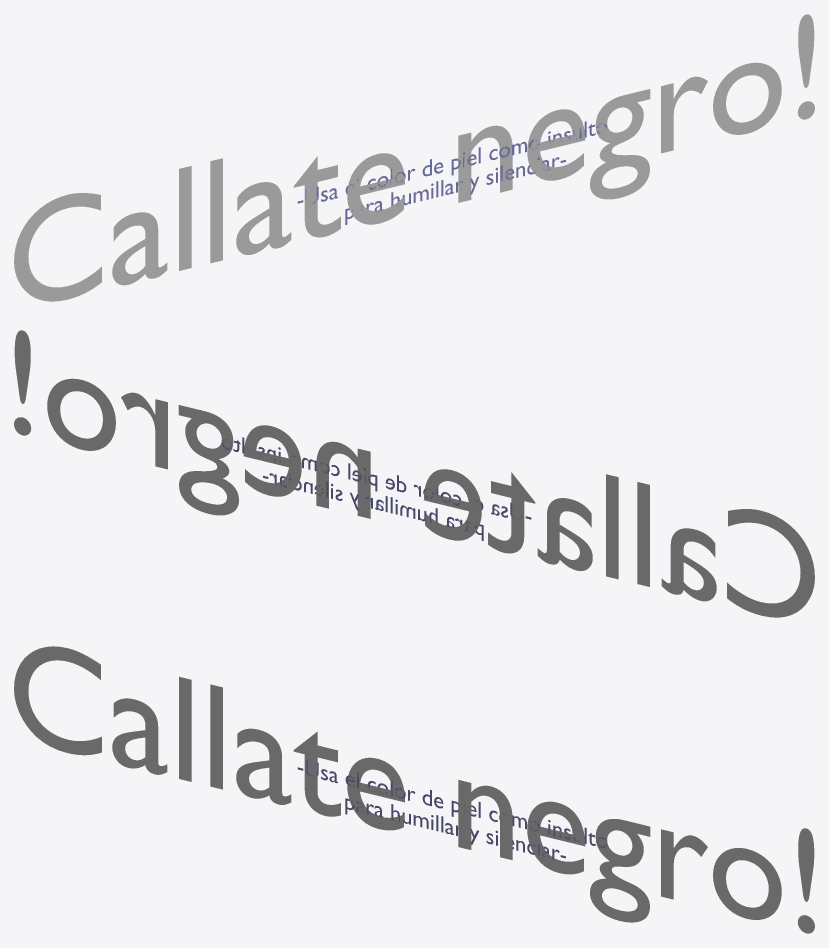
Rendered from palabras3.glb.
The picture shows the model from 3 angles, top to bottom: view 1: azimuth 30°, elevation 25°; view 2: azimuth 150°, elevation 25°; view 3: azimuth 330°, elevation 25°; orthographic projection.
Parts seen in each view (by area): view 1: INDIO, INDIO.001; view 2: INDIO, INDIO.001; view 3: INDIO, INDIO.001.
Boxes of the visible parts, <box> form: INDIO: <box>14,14,814,301</box>; INDIO.001: <box>297,121,606,224</box>; INDIO: <box>14,330,814,617</box>; INDIO.001: <box>222,437,531,540</box>; INDIO: <box>14,646,814,933</box>; INDIO.001: <box>297,759,606,859</box>.
Bounding box in the file's own units: 0.786 × 0.1295 × 3.57e-09.
